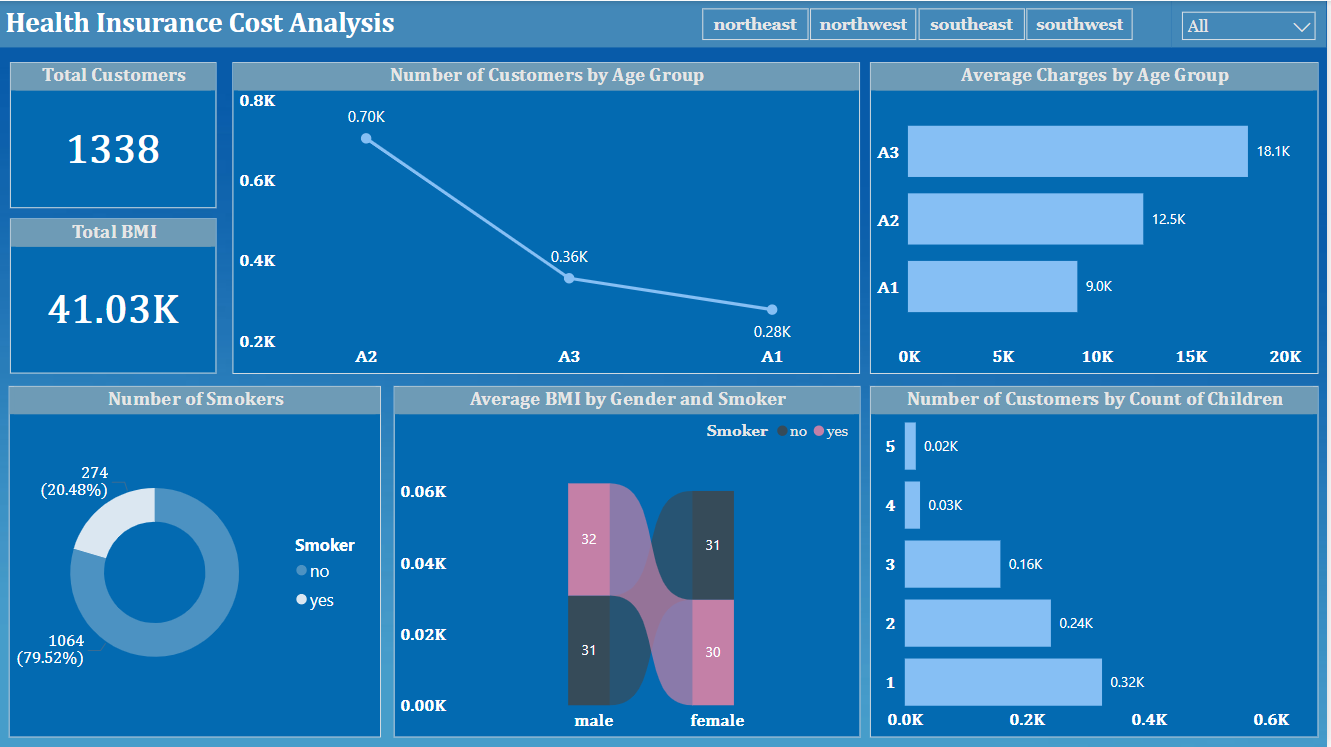

Layout of this report page (visuals, bound fields, positions):
{"tool":"powerbi","page":{"name":"Page 1","canvas":[1280,720],"ordinal":0},"visuals":[{"type":"slicer","fields":{"Values":["insurance.ID"]},"box":[1130.4,0,149.6,44.6],"z":0},{"type":"textbox","box":[0,0,1130.4,44.6],"z":1000},{"type":"card","title":"Total Customers","fields":{"Values":["Count(insurance.ID)"]},"box":[9.7,59.1,199.1,141.2],"z":2000},{"type":"slicer","fields":{"Values":["insurance.Region"]},"box":[651.5,0,465.7,44.6],"z":3000},{"type":"barChart","title":"Average Charges by Age Group","fields":{"Y":["Avg(insurance.Charges)"],"Category":["insurance.Age Group"]},"box":[839.7,59.1,433.1,300.4],"z":4000},{"type":"lineChart","title":"Number of Customers by Age Group","fields":{"Category":["insurance.Age Group"],"Y":["Count(insurance.ID)"]},"box":[224.4,59.1,605.6,300.4],"z":5000},{"type":"card","title":"Total BMI","fields":{"Values":["Sum(insurance.BMI)"]},"box":[9.7,209.9,199.1,149.6],"z":6000},{"type":"ribbonChart","title":"Average BMI by Gender and Smoker","fields":{"Category":["insurance.Gender"],"Y":["Avg(insurance.BMI)"],"Series":["insurance.Smoker"]},"box":[380,371.6,450,339],"z":7000},{"type":"donutChart","title":"Number of Smokers","fields":{"Category":["insurance.Smoker"],"Y":["CountNonNull(insurance.Smoker)"]},"box":[8.4,371.6,359.5,339],"z":8000},{"type":"barChart","title":"Number of Customers by Count of Children","fields":{"Category":["insurance.Children"],"Y":["CountNonNull(insurance.ID)"]},"box":[840,372,433,339],"z":9000}]}

Visuals, with their boxes in screenshot pixels (x1, y1, x2, y2), scaled from the page's 1280x720 canvas onto the 1331x747 screenshot:
slicer - insurance.ID: <bbox>1175, 0, 1330, 46</bbox>
textbox: <bbox>0, 0, 1175, 46</bbox>
"Total Customers" card: <bbox>10, 61, 217, 208</bbox>
slicer - insurance.Region: <bbox>677, 0, 1162, 46</bbox>
"Average Charges by Age Group" barChart: <bbox>873, 61, 1324, 373</bbox>
"Number of Customers by Age Group" lineChart: <bbox>233, 61, 863, 373</bbox>
"Total BMI" card: <bbox>10, 218, 217, 373</bbox>
"Average BMI by Gender and Smoker" ribbonChart: <bbox>395, 386, 863, 737</bbox>
"Number of Smokers" donutChart: <bbox>9, 386, 383, 737</bbox>
"Number of Customers by Count of Children" barChart: <bbox>873, 386, 1324, 738</bbox>
